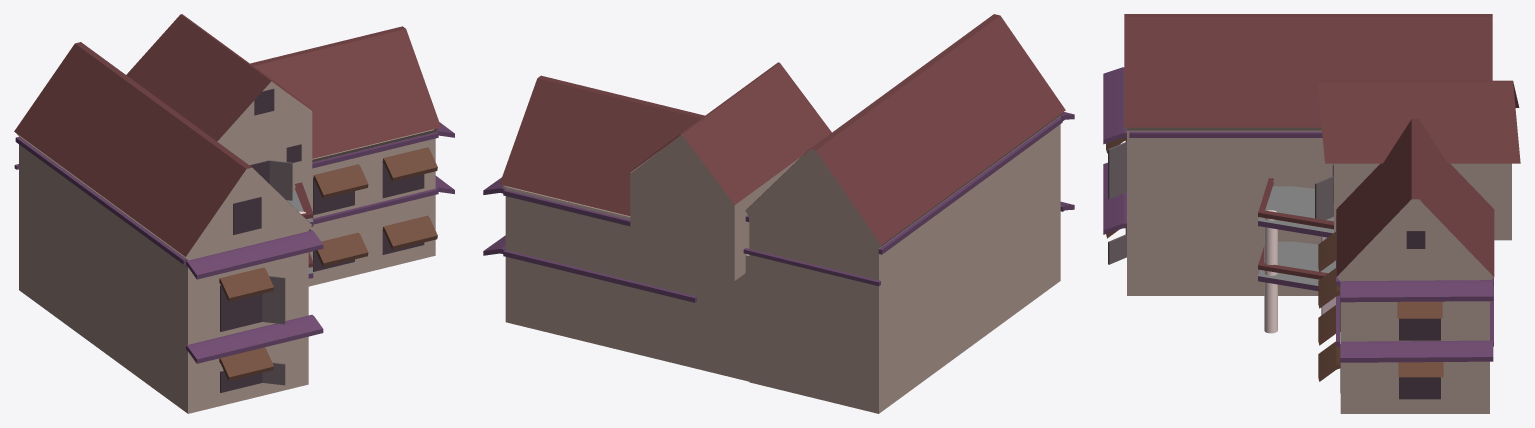
File: ING_tech2.glb
3 views of the same model, side by side, from view 1: azimuth 30°, elevation 25°; view 2: azimuth 150°, elevation 25°; view 3: azimuth 270°, elevation 25° (orthographic). The views are drawn at different scales.
Visible parts, largest first — view 1: polySurface420.001; view 2: polySurface420.001; view 3: polySurface420.001.
Part boxes in pixels (bbox=[...]): polySurface420.001: bbox=[14, 14, 454, 413]; polySurface420.001: bbox=[483, 14, 1074, 413]; polySurface420.001: bbox=[1103, 14, 1520, 413].
Size of the model in its own units: 15.27 by 9.26 by 13.9.
